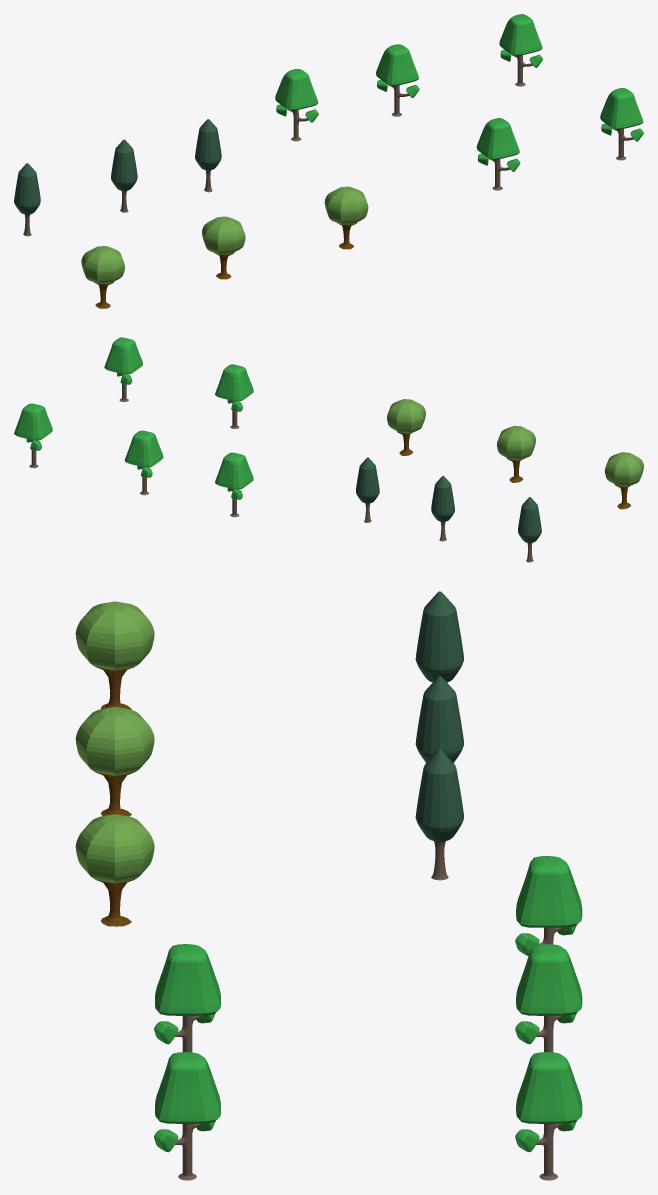
File: a_ilha_arvores_low_poly.glb
3 renders of one model, top to bottom at view 1: azimuth 30°, elevation 25°; view 2: azimuth 150°, elevation 25°; view 3: azimuth 270°, elevation 25°, orthographic. The views are drawn at different scales.
Visible parts, largest first — view 1: ARV-OVAL.002_8, ARV-OVAL_6, ARV-OVAL.003_9, ARV-OVAL.004_10, ARV-OVAL.001_7, ARV-REDONDA.001_4, ARV-REDONDA.002_5, ARV-REDONDA_3, ARVORE.001_1, ARVORE_0, ARVORE.002_2; view 2: ARV-OVAL.003_9, ARV-OVAL.002_8, ARV-OVAL.001_7, ARV-OVAL_6, ARV-OVAL.004_10, ARV-REDONDA_3, ARV-REDONDA.002_5, ARV-REDONDA.001_4, ARVORE_0, ARVORE.002_2, ARVORE.001_1; view 3: ARV-OVAL.004_10, ARV-OVAL.002_8, ARV-REDONDA.001_4, ARV-REDONDA.002_5, ARV-REDONDA_3, ARV-OVAL.003_9, ARV-OVAL.001_7, ARV-OVAL_6, ARVORE.002_2, ARVORE.001_1, ARVORE_0.
Boxes of the visible parts, x1,y1,x2,y2 form: ARV-OVAL.002_8: (499,14,542,86); ARV-OVAL_6: (275,69,318,141); ARV-OVAL.003_9: (476,118,520,190); ARV-OVAL.004_10: (600,88,643,160); ARV-OVAL.001_7: (376,44,419,116); ARV-REDONDA.001_4: (324,186,368,249); ARV-REDONDA.002_5: (202,216,245,279); ARV-REDONDA_3: (81,246,124,308); ARVORE.001_1: (14,163,40,236); ARVORE_0: (111,139,137,212); ARVORE.002_2: (195,119,221,192); ARV-OVAL.003_9: (215,364,253,428); ARV-OVAL.002_8: (14,403,52,468); ARV-OVAL.001_7: (124,430,163,495); ARV-OVAL_6: (215,452,253,517); ARV-OVAL.004_10: (104,337,142,401); ARV-REDONDA_3: (604,452,643,509); ARV-REDONDA.002_5: (497,426,535,482); ARV-REDONDA.001_4: (387,399,425,455); ARVORE_0: (431,475,454,541); ARVORE.002_2: (356,457,379,522); ARVORE.001_1: (518,497,541,562); ARV-OVAL.004_10: (154,1052,220,1180); ARV-OVAL.002_8: (515,1052,582,1180); ARV-REDONDA.001_4: (75,814,154,926); ARV-REDONDA.002_5: (75,707,154,816); ARV-REDONDA_3: (75,601,154,709); ARV-OVAL.003_9: (154,944,220,1052); ARV-OVAL.001_7: (515,944,582,1052); ARV-OVAL_6: (515,856,582,955); ARVORE.002_2: (415,749,463,880); ARVORE.001_1: (415,591,463,682); ARVORE_0: (415,676,463,762).
Bounding box in the file's own units: 104 × 12.65 × 44.6.
